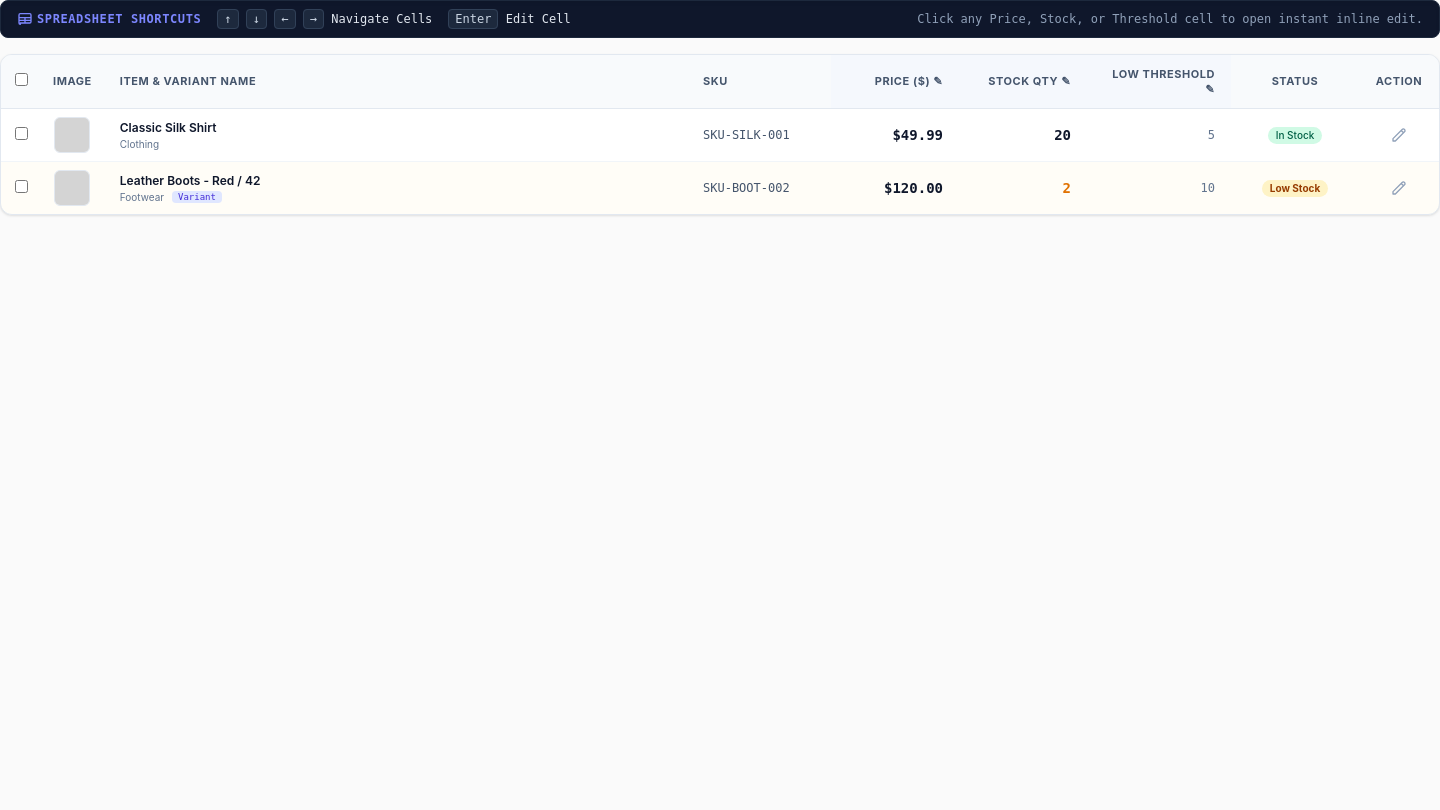
Test: InventoryTable Component › updates state optimistically and rolls back on API error
Click the text "$49.99".
click(895, 135)  # box x1=831 y1=109 x2=959 y2=162
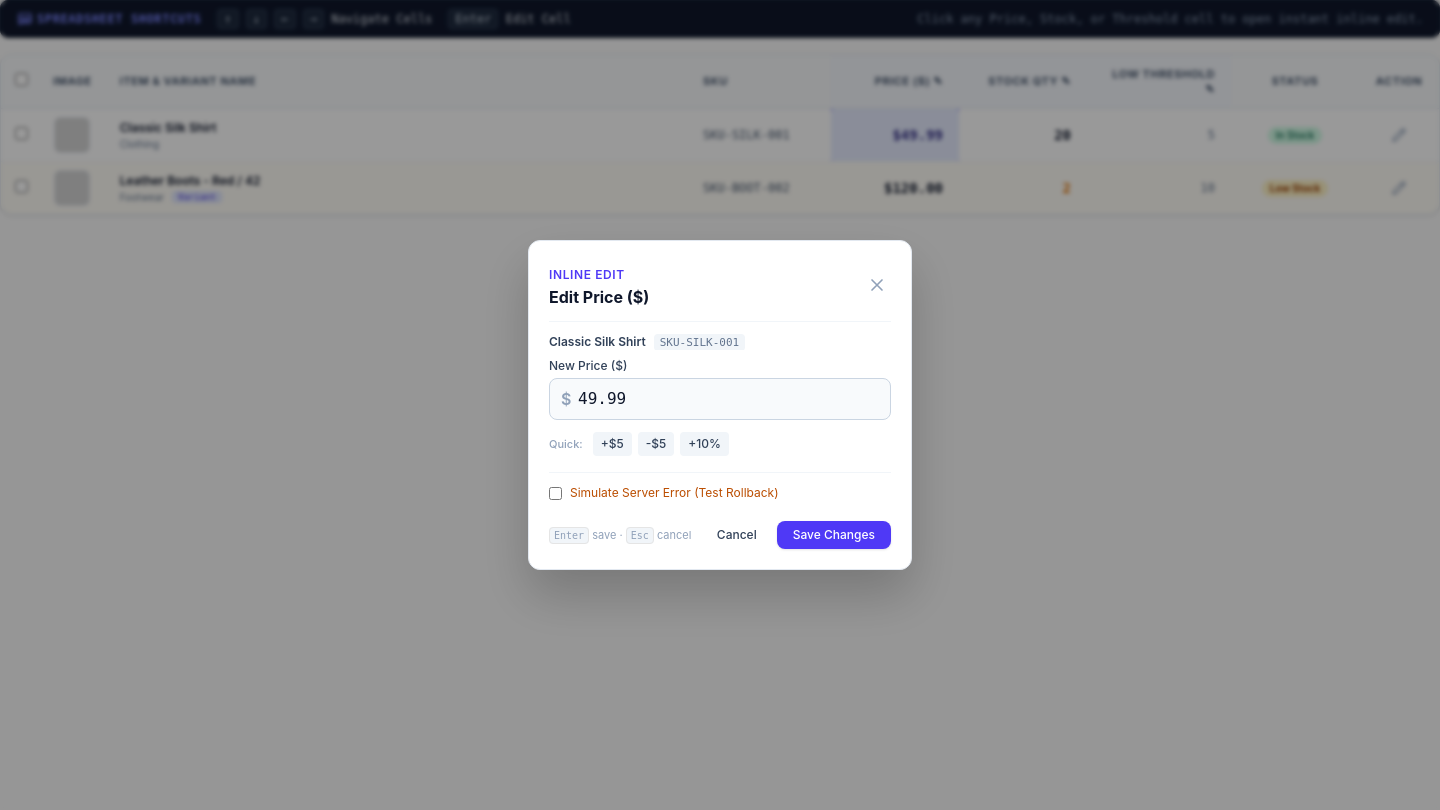
Replace the text in the number field with placeholder "Enter value..." with "59.99" at (720, 399), box x1=549 y1=378 x2=891 y2=420
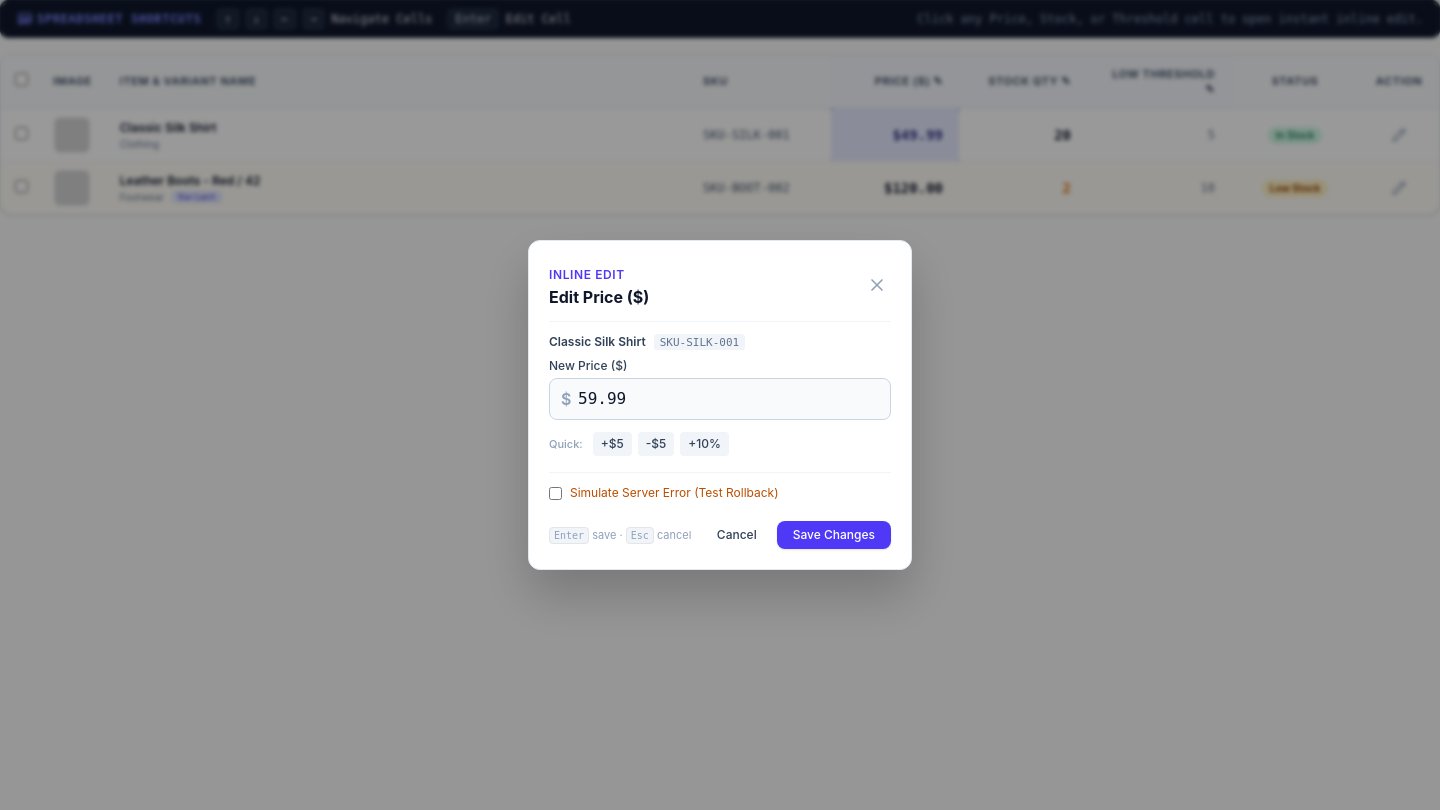
Click Save Changes button
Click the button "Save Changes".
click(834, 535)  # box x1=777 y1=521 x2=891 y2=549
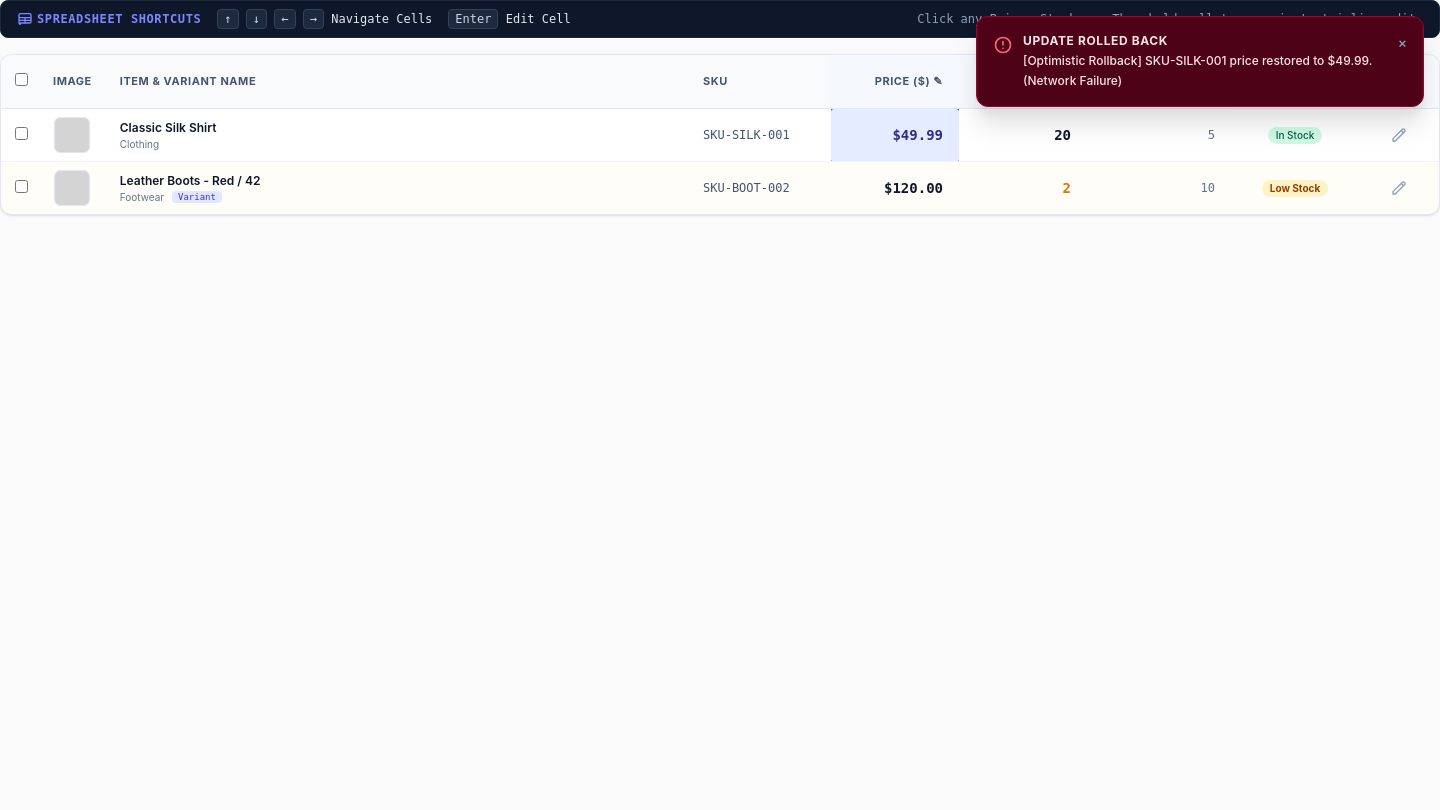
Expected: the text "$49.99" is shown, x1=831 y1=109 x2=959 y2=162
Now the text "Update Rolled Back" is shown, box x1=1023 y1=33 x2=1168 y2=48
